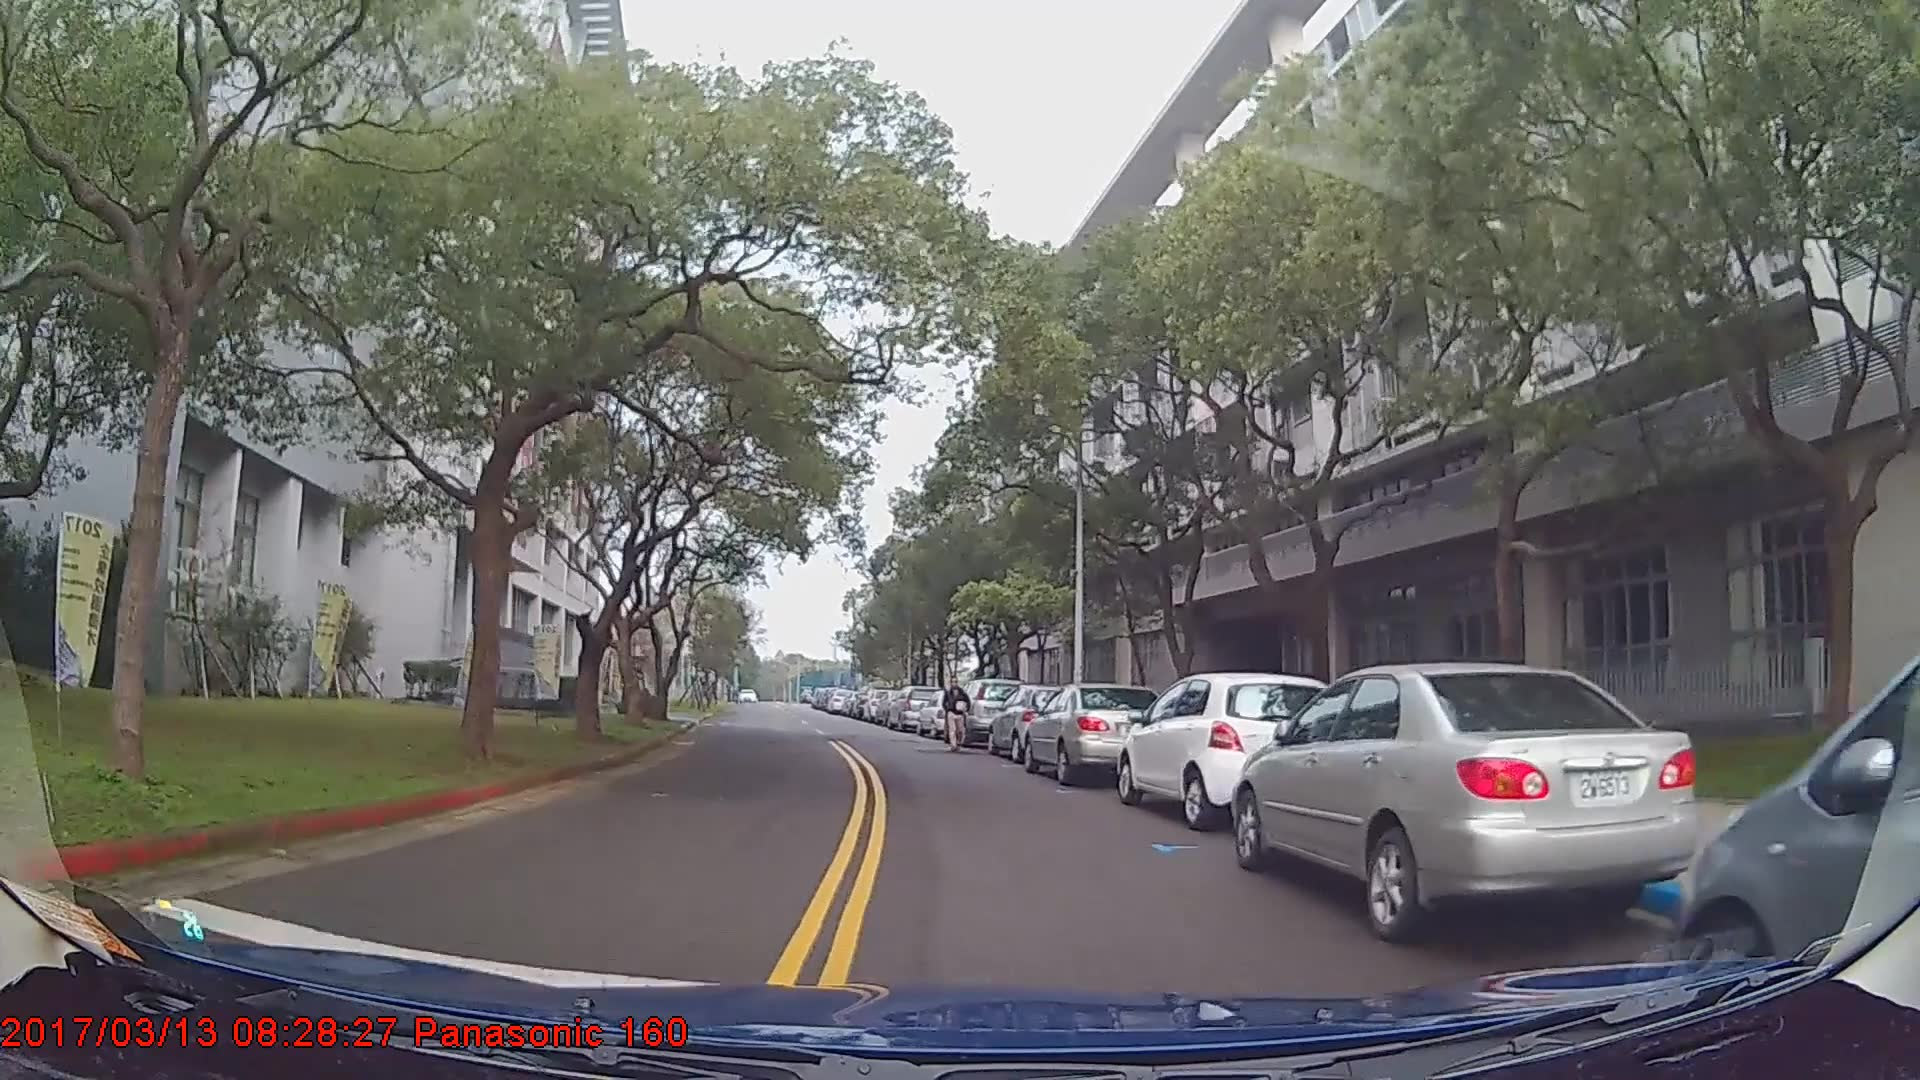pedestrian: (943, 676, 971, 754)
vehicle: (1226, 660, 1697, 940), (1117, 671, 1339, 833), (1024, 681, 1168, 786), (987, 684, 1093, 766), (953, 677, 1024, 749), (887, 682, 942, 730)
